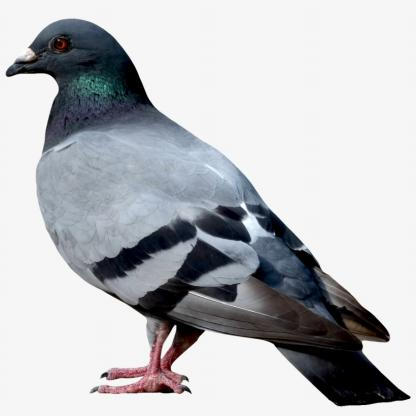Flying Rat: (8, 14, 404, 416)
